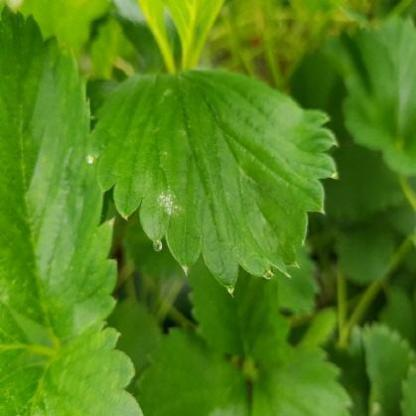Strawberry_Powdery_Mildew_Leaf: (85, 68, 340, 297)
